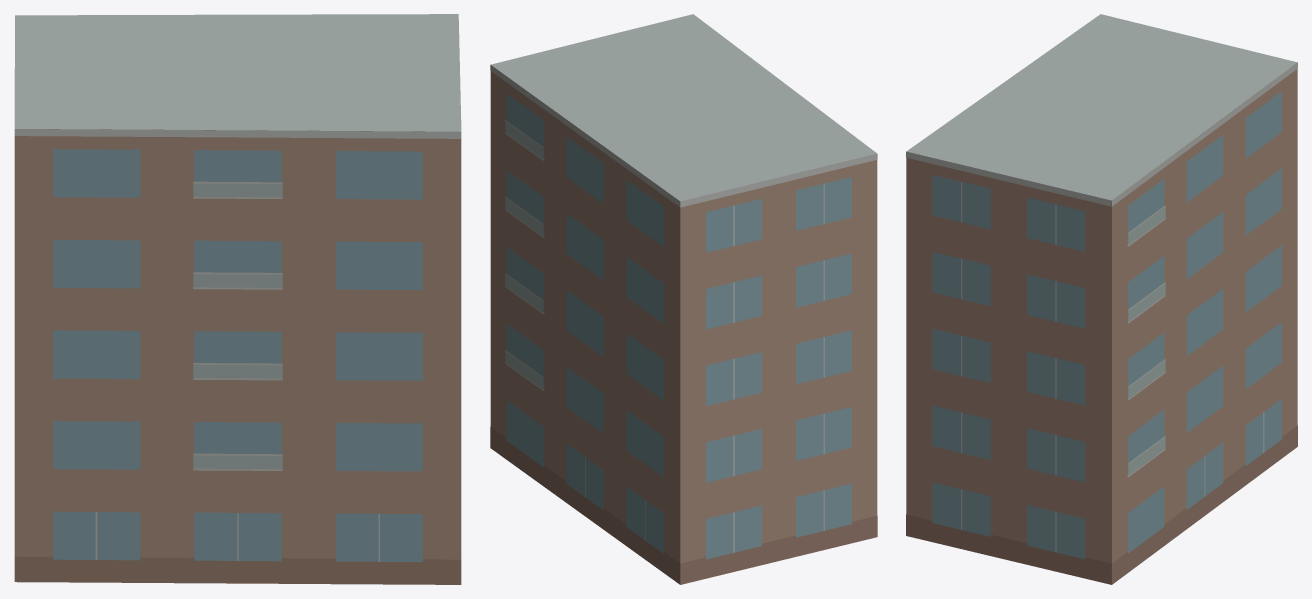
File: survey-upis-32974394.glb
3 renders of one model, left to right at view 1: azimuth 30°, elevation 25°; view 2: azimuth 150°, elevation 25°; view 3: azimuth 270°, elevation 25°, orthographic. The views are drawn at different scales.
Parts seen in each view (by area): view 1: survey-upis-32974394.tmp; view 2: survey-upis-32974394.tmp; view 3: survey-upis-32974394.tmp.
Part boxes in pixels (left/top/right/bottom): survey-upis-32974394.tmp: left=14, top=14, right=461, bottom=584; survey-upis-32974394.tmp: left=490, top=14, right=877, bottom=584; survey-upis-32974394.tmp: left=906, top=14, right=1297, bottom=584.
Bounding box in the file's own units: 15.94 × 15.3 × 14.14.
